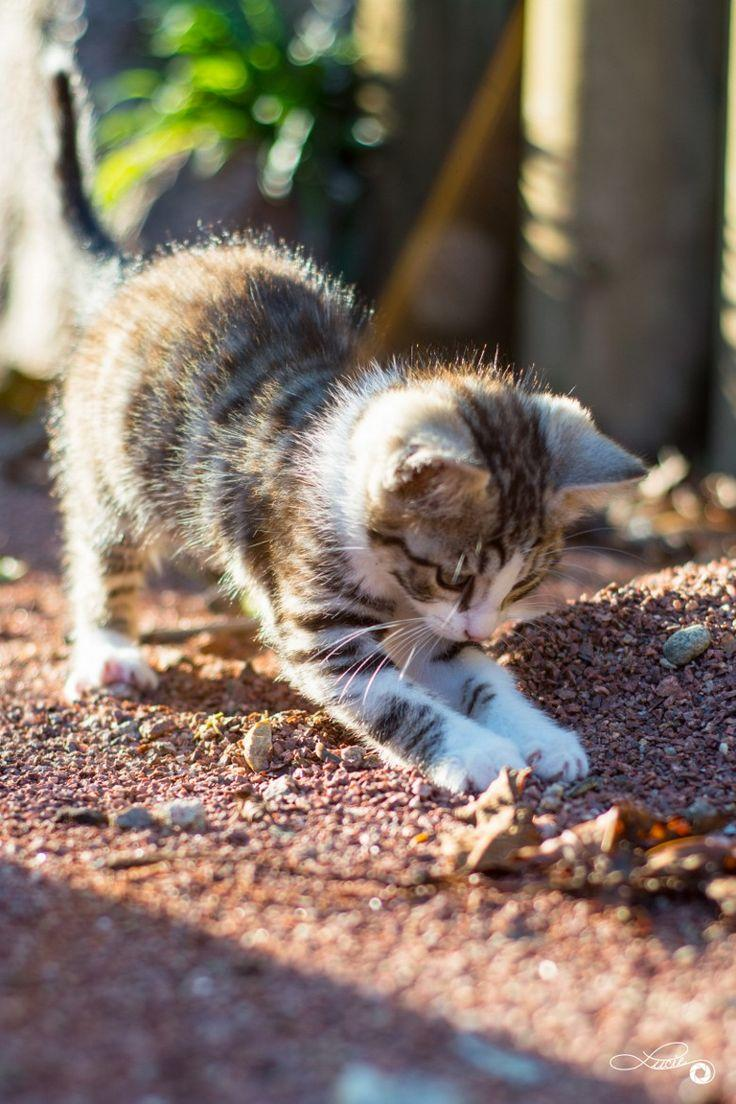kedo: (45, 71, 645, 793)
